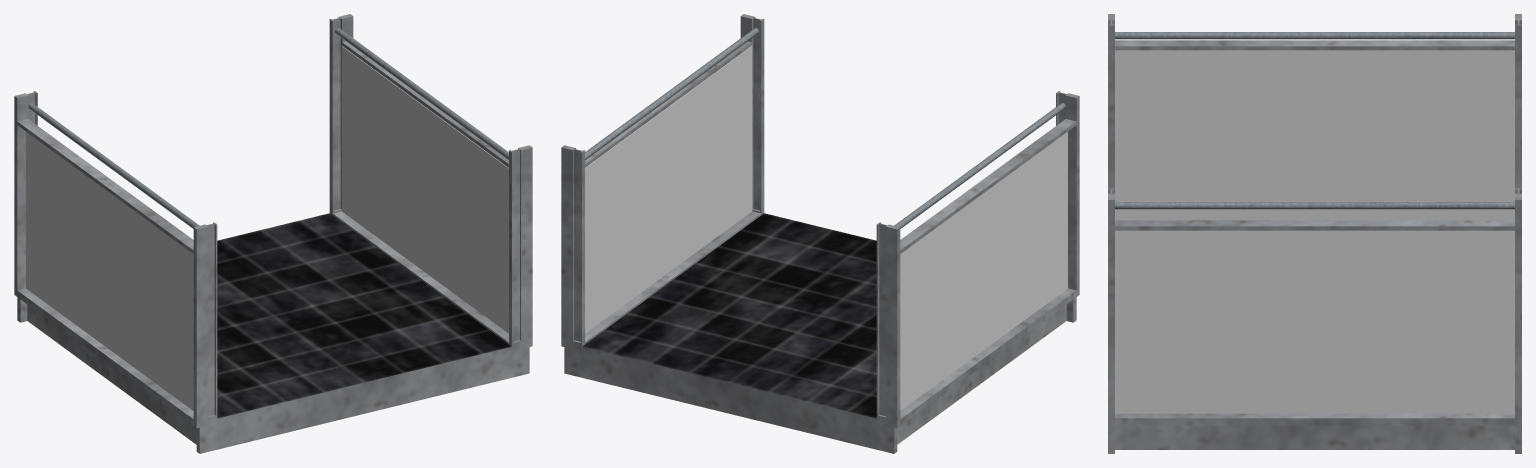
Rendered from BridgeNoRoof.fbx.
The picture shows the model from 3 angles, left to right: view 1: azimuth 30°, elevation 25°; view 2: azimuth 150°, elevation 25°; view 3: azimuth 270°, elevation 25°; orthographic projection. The views are drawn at different scales.
Visible parts, largest first — view 1: BridgeNoRoof; view 2: BridgeNoRoof; view 3: BridgeNoRoof.
Part boxes in pixels (x1,y1,x2,y2): BridgeNoRoof: (14, 14, 532, 453); BridgeNoRoof: (561, 14, 1079, 453); BridgeNoRoof: (1108, 14, 1521, 453).
Size of what is drawn, in the model's own units: 213 by 136 by 200.
